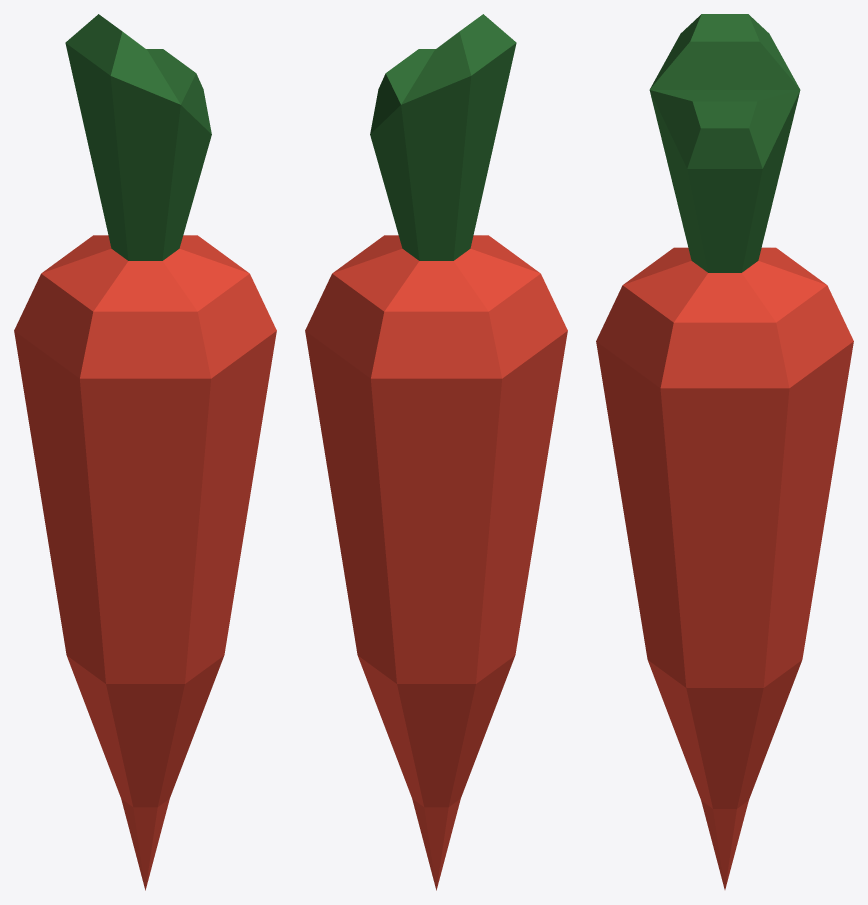
The model's file is carrot.glb.
3 renders of one model, left to right at view 1: azimuth 30°, elevation 25°; view 2: azimuth 150°, elevation 25°; view 3: azimuth 270°, elevation 25°, orthographic.
Visible parts, largest first — view 1: carrot; view 2: carrot; view 3: carrot.
Part boxes in pixels (left/top/right/bottom): carrot: left=14, top=14, right=276, bottom=890; carrot: left=305, top=14, right=567, bottom=890; carrot: left=596, top=14, right=853, bottom=889.
Bounding box in the file's own units: 0.1058 × 0.4497 × 0.1222.
1 material, 1 textured.
